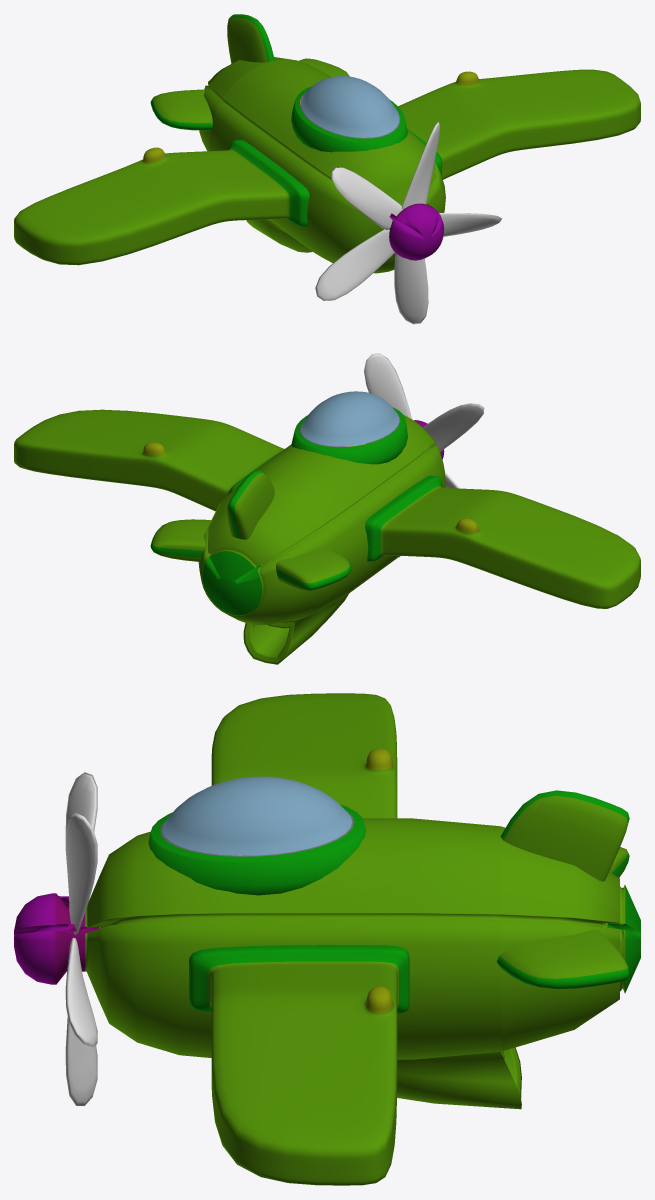
3 renders of one model, top to bottom at view 1: azimuth 30°, elevation 25°; view 2: azimuth 150°, elevation 25°; view 3: azimuth 270°, elevation 25°, orthographic. The views are drawn at different scales.
Parts seen in each view (by area): view 1: Sphere.004, Cube.014; view 2: Sphere.004, Cube.014; view 3: Sphere.004, Cube.014.
Part boxes in pixels (x1,y1,x2,y2): Sphere.004: (14, 14, 640, 273); Cube.014: (315, 122, 501, 324); Sphere.004: (14, 391, 640, 664); Cube.014: (364, 353, 484, 557); Sphere.004: (14, 693, 640, 1185); Cube.014: (65, 772, 97, 1105).
Bounding box in the file's own units: 899 × 291 × 519.
